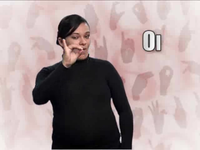oi: (62, 40, 83, 66)
